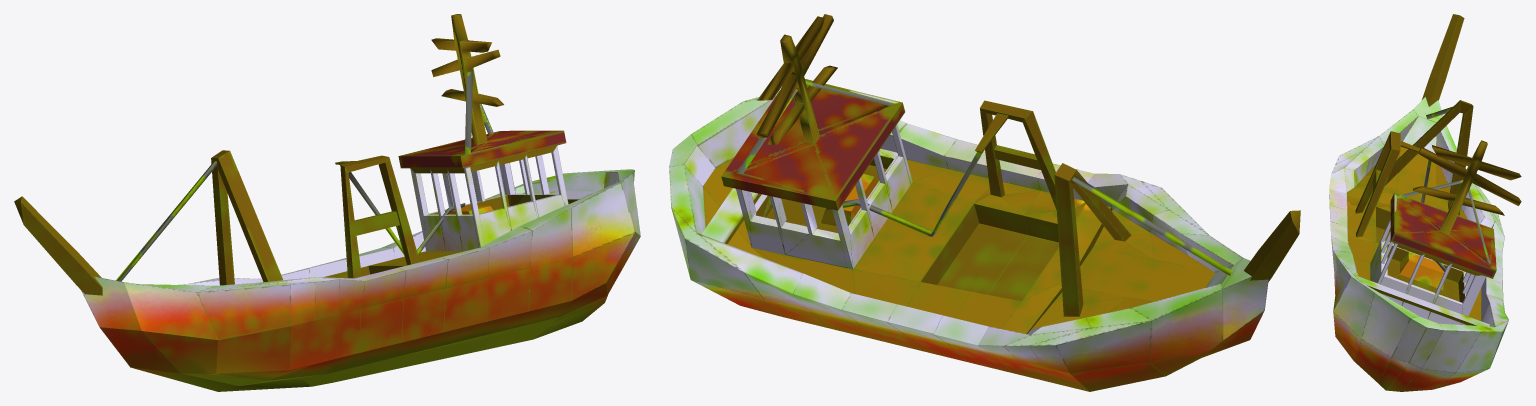
Rendered from Abandon_Ship .fbx.
3 renders of one model, left to right at view 1: azimuth 30°, elevation 25°; view 2: azimuth 150°, elevation 25°; view 3: azimuth 270°, elevation 25°, orthographic. The views are drawn at different scales.
Parts seen in each view (by area): view 1: Abandon_Ship_; view 2: Abandon_Ship_; view 3: Abandon_Ship_.
Part boxes in pixels (box(x1,y1,x2,y2)): Abandon_Ship_: box(14, 14, 640, 391); Abandon_Ship_: box(669, 14, 1300, 391); Abandon_Ship_: box(1329, 14, 1521, 391).
Bounding box in the file's own units: 9956 × 4538 × 3480.
